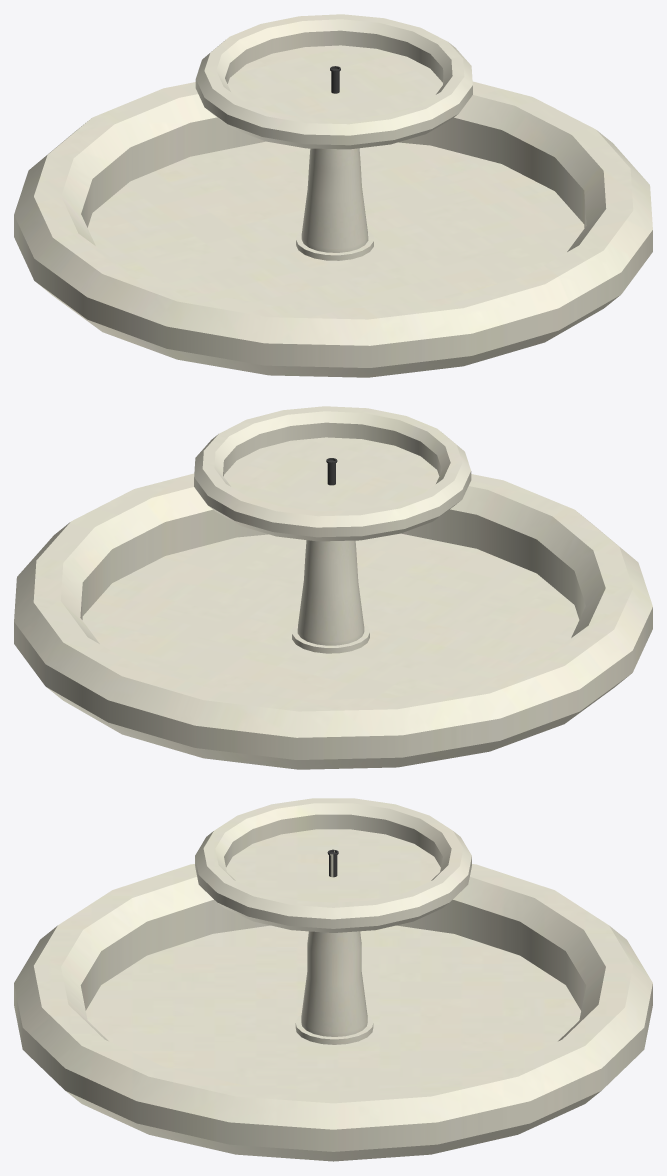
Rendered from Fountain.FBX.
The picture shows the model from 3 angles, top to bottom: view 1: azimuth 30°, elevation 25°; view 2: azimuth 150°, elevation 25°; view 3: azimuth 270°, elevation 25°; orthographic projection.
Parts seen in each view (by area): view 1: Fountain001; view 2: Fountain001; view 3: Fountain001.
Boxes of the visible parts, x1=… form: Fountain001: x1=14, y1=14, x2=652, y2=377; Fountain001: x1=14, y1=406, x2=652, y2=769; Fountain001: x1=14, y1=798, x2=652, y2=1161.
Bounding box in the file's own units: 325 × 103 × 326.
Materials: 1 (1 with a texture image).
